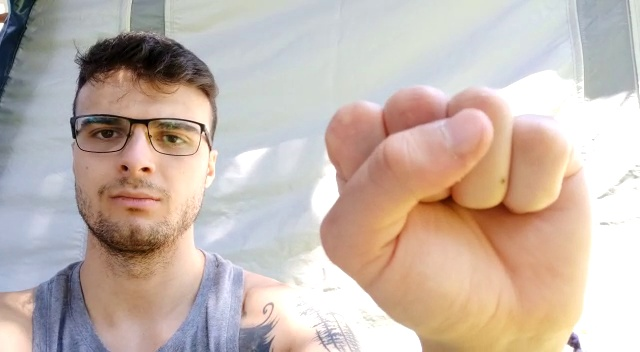Fist: (318, 82, 590, 335)
